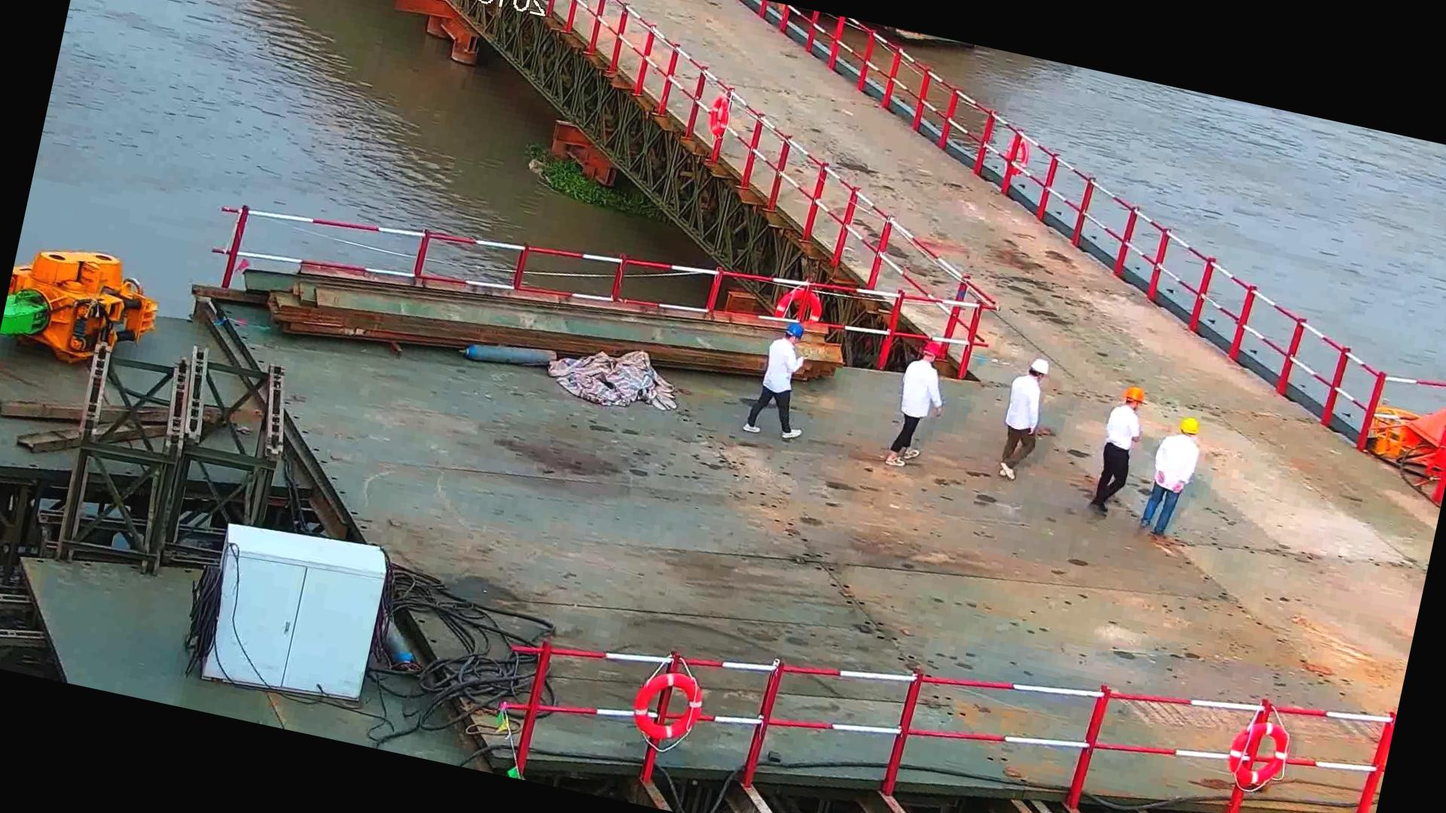helmet: (1171, 409, 1204, 442), (1117, 386, 1147, 410), (1023, 355, 1052, 378), (782, 319, 808, 342)
no_vest: (886, 355, 948, 426), (1145, 430, 1203, 503), (749, 333, 808, 404), (1094, 403, 1151, 473), (998, 374, 1052, 445)
person: (872, 326, 960, 477), (737, 309, 826, 446), (1076, 379, 1154, 531), (1128, 409, 1209, 549), (982, 347, 1056, 490)
